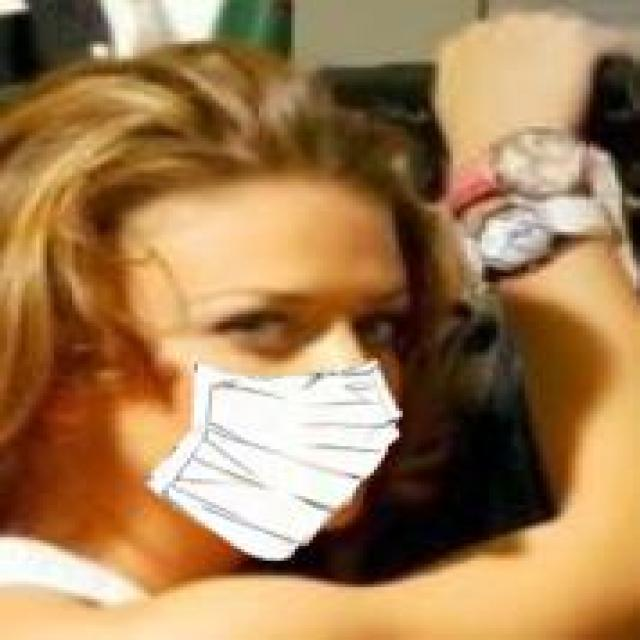mask: (0, 26, 496, 561)
